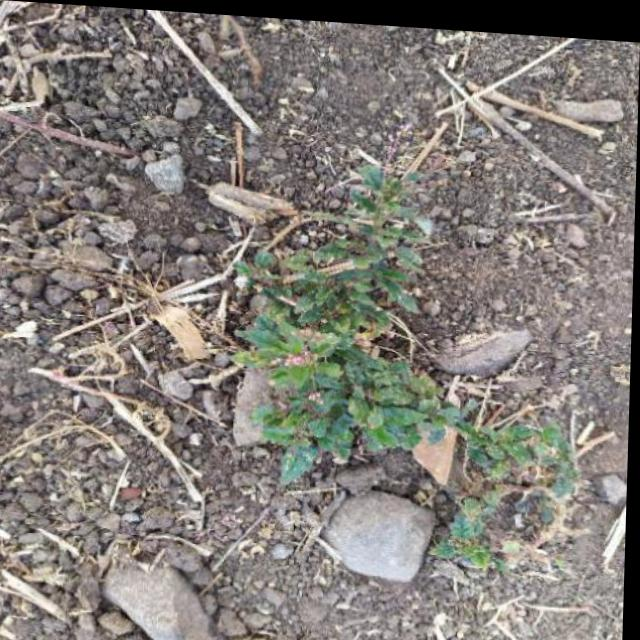weed: (221, 161, 570, 543)
